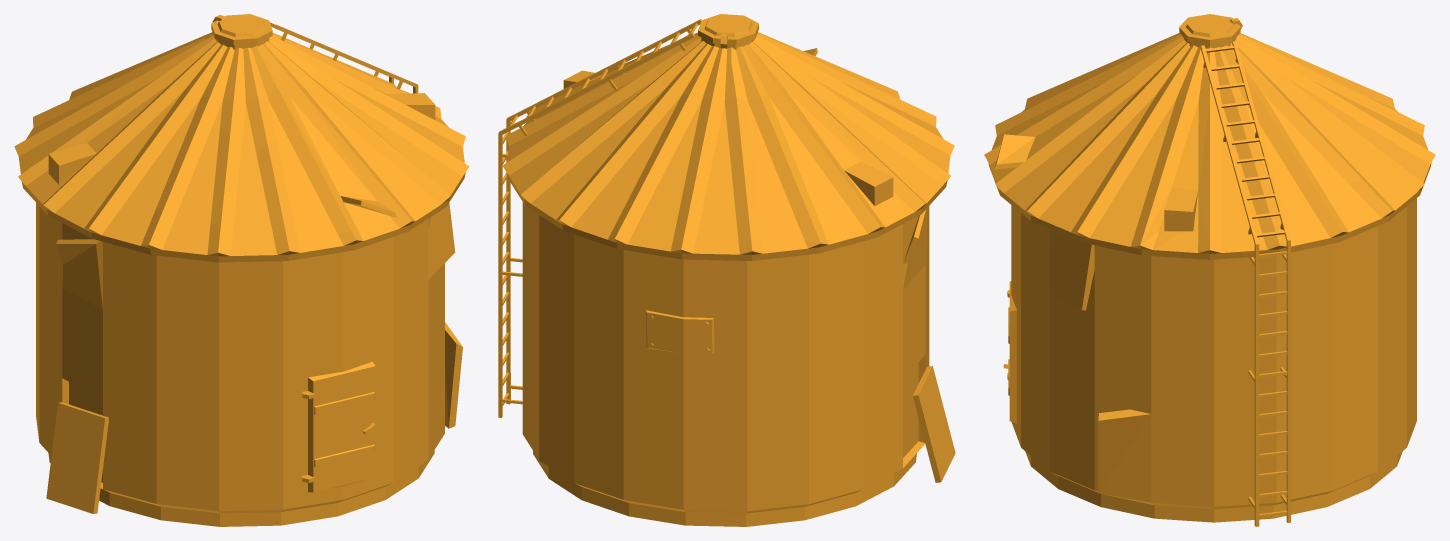
The model's file is SM_Bin_Grain_Old.fbx.
3 renders of one model, left to right at view 1: azimuth 30°, elevation 25°; view 2: azimuth 150°, elevation 25°; view 3: azimuth 270°, elevation 25°, orthographic.
Parts seen in each view (by area): view 1: bin-grain-old; view 2: bin-grain-old; view 3: bin-grain-old.
Boxes of the visible parts, x1=… form: bin-grain-old: x1=14, y1=14, x2=469, y2=526; bin-grain-old: x1=498, y1=14, x2=955, y2=526; bin-grain-old: x1=984, y1=14, x2=1435, y2=526.
Bounding box in the file's own units: 6.27 × 6.26 × 6.15.
